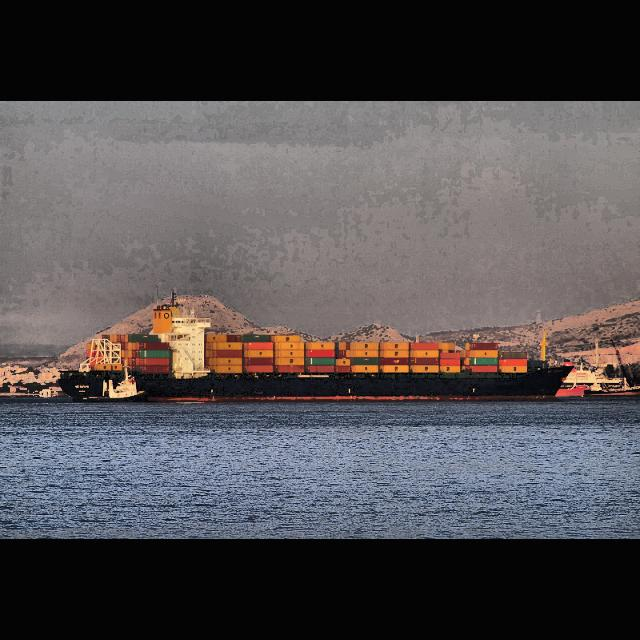container: (56, 291, 574, 405)
tug: (80, 373, 150, 405)
